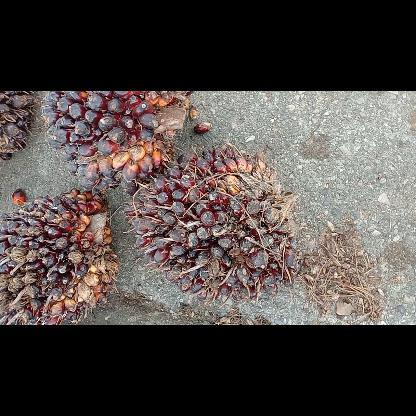TBS mentah: (124, 144, 296, 296), (0, 188, 119, 325), (42, 92, 192, 190), (0, 90, 34, 160)
